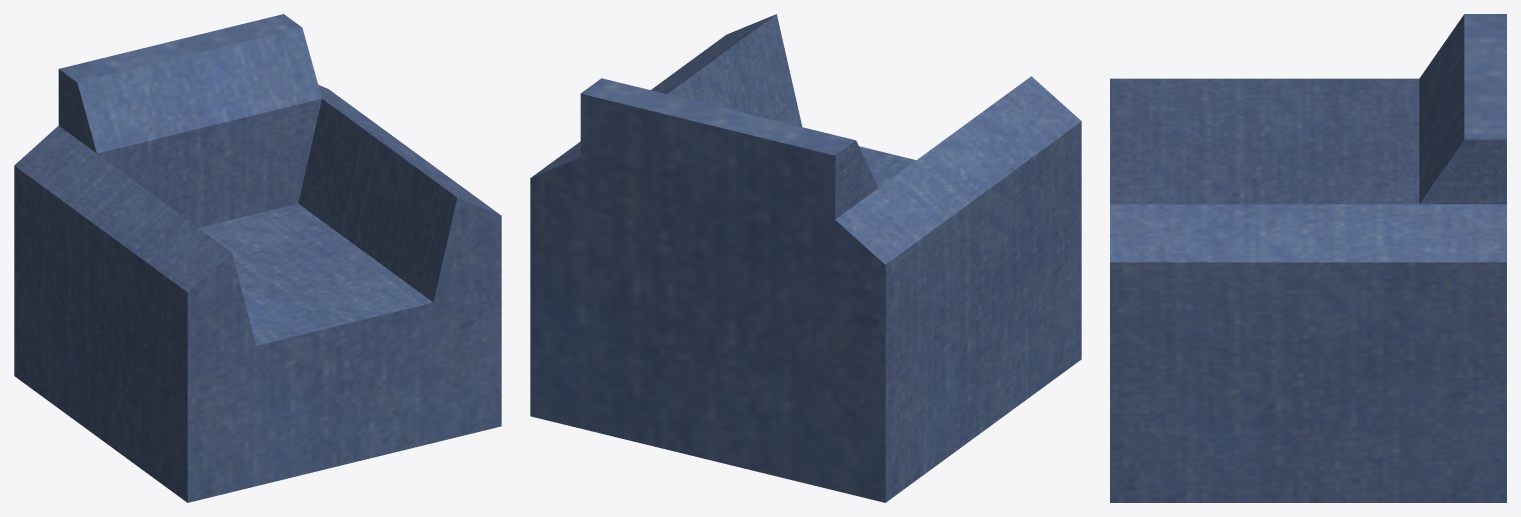
Rendered from ArmChair_1.fbx.
3 views of the same model, side by side, from view 1: azimuth 30°, elevation 25°; view 2: azimuth 150°, elevation 25°; view 3: azimuth 270°, elevation 25° (orthographic). The views are drawn at different scales.
Visible parts, largest first — view 1: Maya_File_Assets:TexturedAssetsCurrent:QuentonAssets02:Singl; view 2: Maya_File_Assets:TexturedAssetsCurrent:QuentonAssets02:Singl; view 3: Maya_File_Assets:TexturedAssetsCurrent:QuentonAssets02:Singl.
Part boxes in pixels (bbox=[...]): Maya_File_Assets:TexturedAssetsCurrent:QuentonAssets02:Singl: bbox=[14, 14, 501, 502]; Maya_File_Assets:TexturedAssetsCurrent:QuentonAssets02:Singl: bbox=[530, 14, 1081, 502]; Maya_File_Assets:TexturedAssetsCurrent:QuentonAssets02:Singl: bbox=[1110, 14, 1506, 502].
Size of the model in its own units: 1.35 by 1.22 by 1.29.
